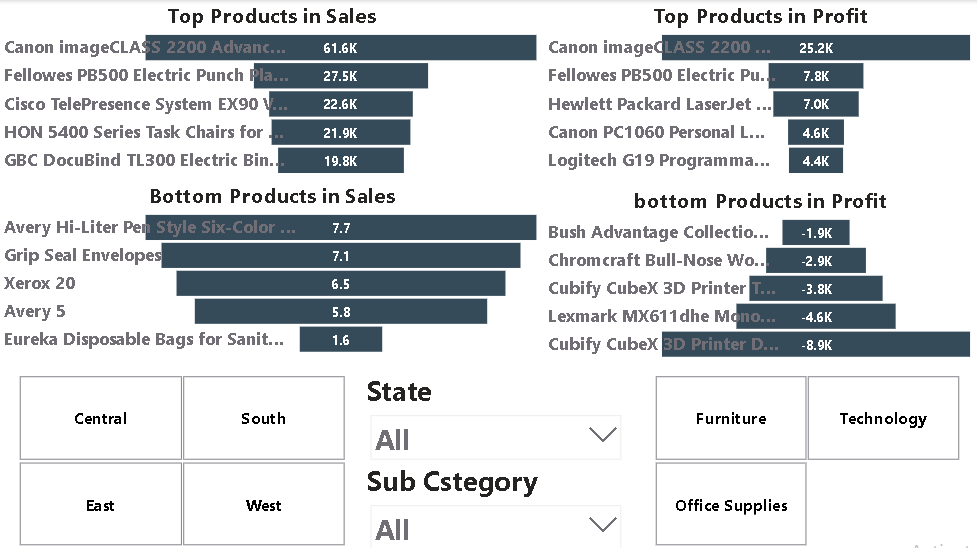

The page's visual inventory and layout, read from the dashboard file:
{"tool":"powerbi","page":{"name":"Product Insights","canvas":[1280,720],"ordinal":3},"visuals":[{"type":"funnel","title":"Top Products in Sales","fields":{"Category":["retail product.product_name"],"Y":["Sum(retail order_details.sales)"]},"box":[0,0,712.2,235.2],"z":0},{"type":"funnel","title":"Top Products in Profit","fields":{"Category":["retail product.product_name"],"Y":["Sum(retail order_details.profit)"]},"box":[712.2,0,567.8,235.2],"z":1},{"type":"funnel","title":"Bottom Products in Sales","fields":{"Category":["retail product.product_name"],"Y":["Sum(retail order_details.sales)"]},"box":[0,235.2,712.2,233.5],"z":2},{"type":"funnel","title":"bottom Products in Profit","fields":{"Category":["retail product.product_name"],"Y":["Sum(retail order_details.profit)"]},"box":[712.2,241.9,567.8,233.5],"z":3},{"type":"slicer","fields":{"Values":["retail address.region"]},"box":[0,485.5,475.4,235.2],"z":4},{"type":"slicer","title":"State","fields":{"Values":["retail address.state"]},"box":[475.4,485.5,347.7,117.6],"z":5},{"type":"slicer","fields":{"Values":["retail product.category"]},"box":[833.2,485.5,446.8,235.2],"z":6},{"type":"slicer","title":"Sub Cstegory","fields":{"Values":["retail product.sub_category"]},"box":[475.4,603,347.7,117.6],"z":7}]}

Visuals, with their boxes in screenshot pixels (x1, y1, x2, y2), scaled from the page's 1280x720 canvas onto the 977x548 screenshot:
"Top Products in Sales" funnel: [0, 0, 544, 179]
"Top Products in Profit" funnel: [544, 0, 976, 179]
"Bottom Products in Sales" funnel: [0, 179, 544, 357]
"bottom Products in Profit" funnel: [544, 184, 976, 362]
slicer - retail address.region: [0, 370, 363, 547]
"State" slicer: [363, 370, 628, 459]
slicer - retail product.category: [636, 370, 976, 547]
"Sub Cstegory" slicer: [363, 459, 628, 547]
